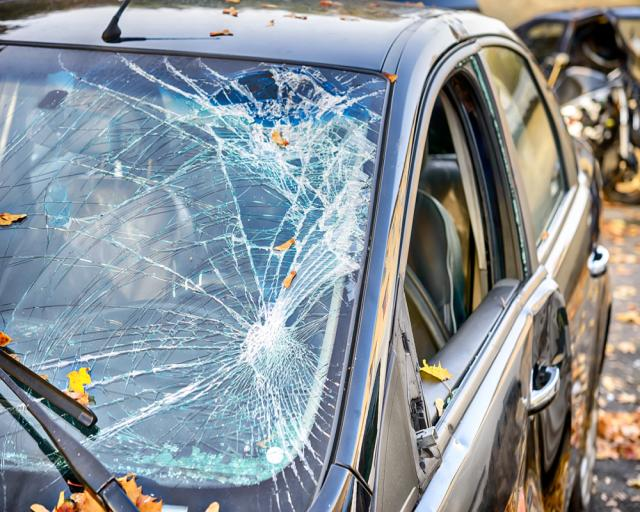glass shatter: (0, 43, 391, 512)
